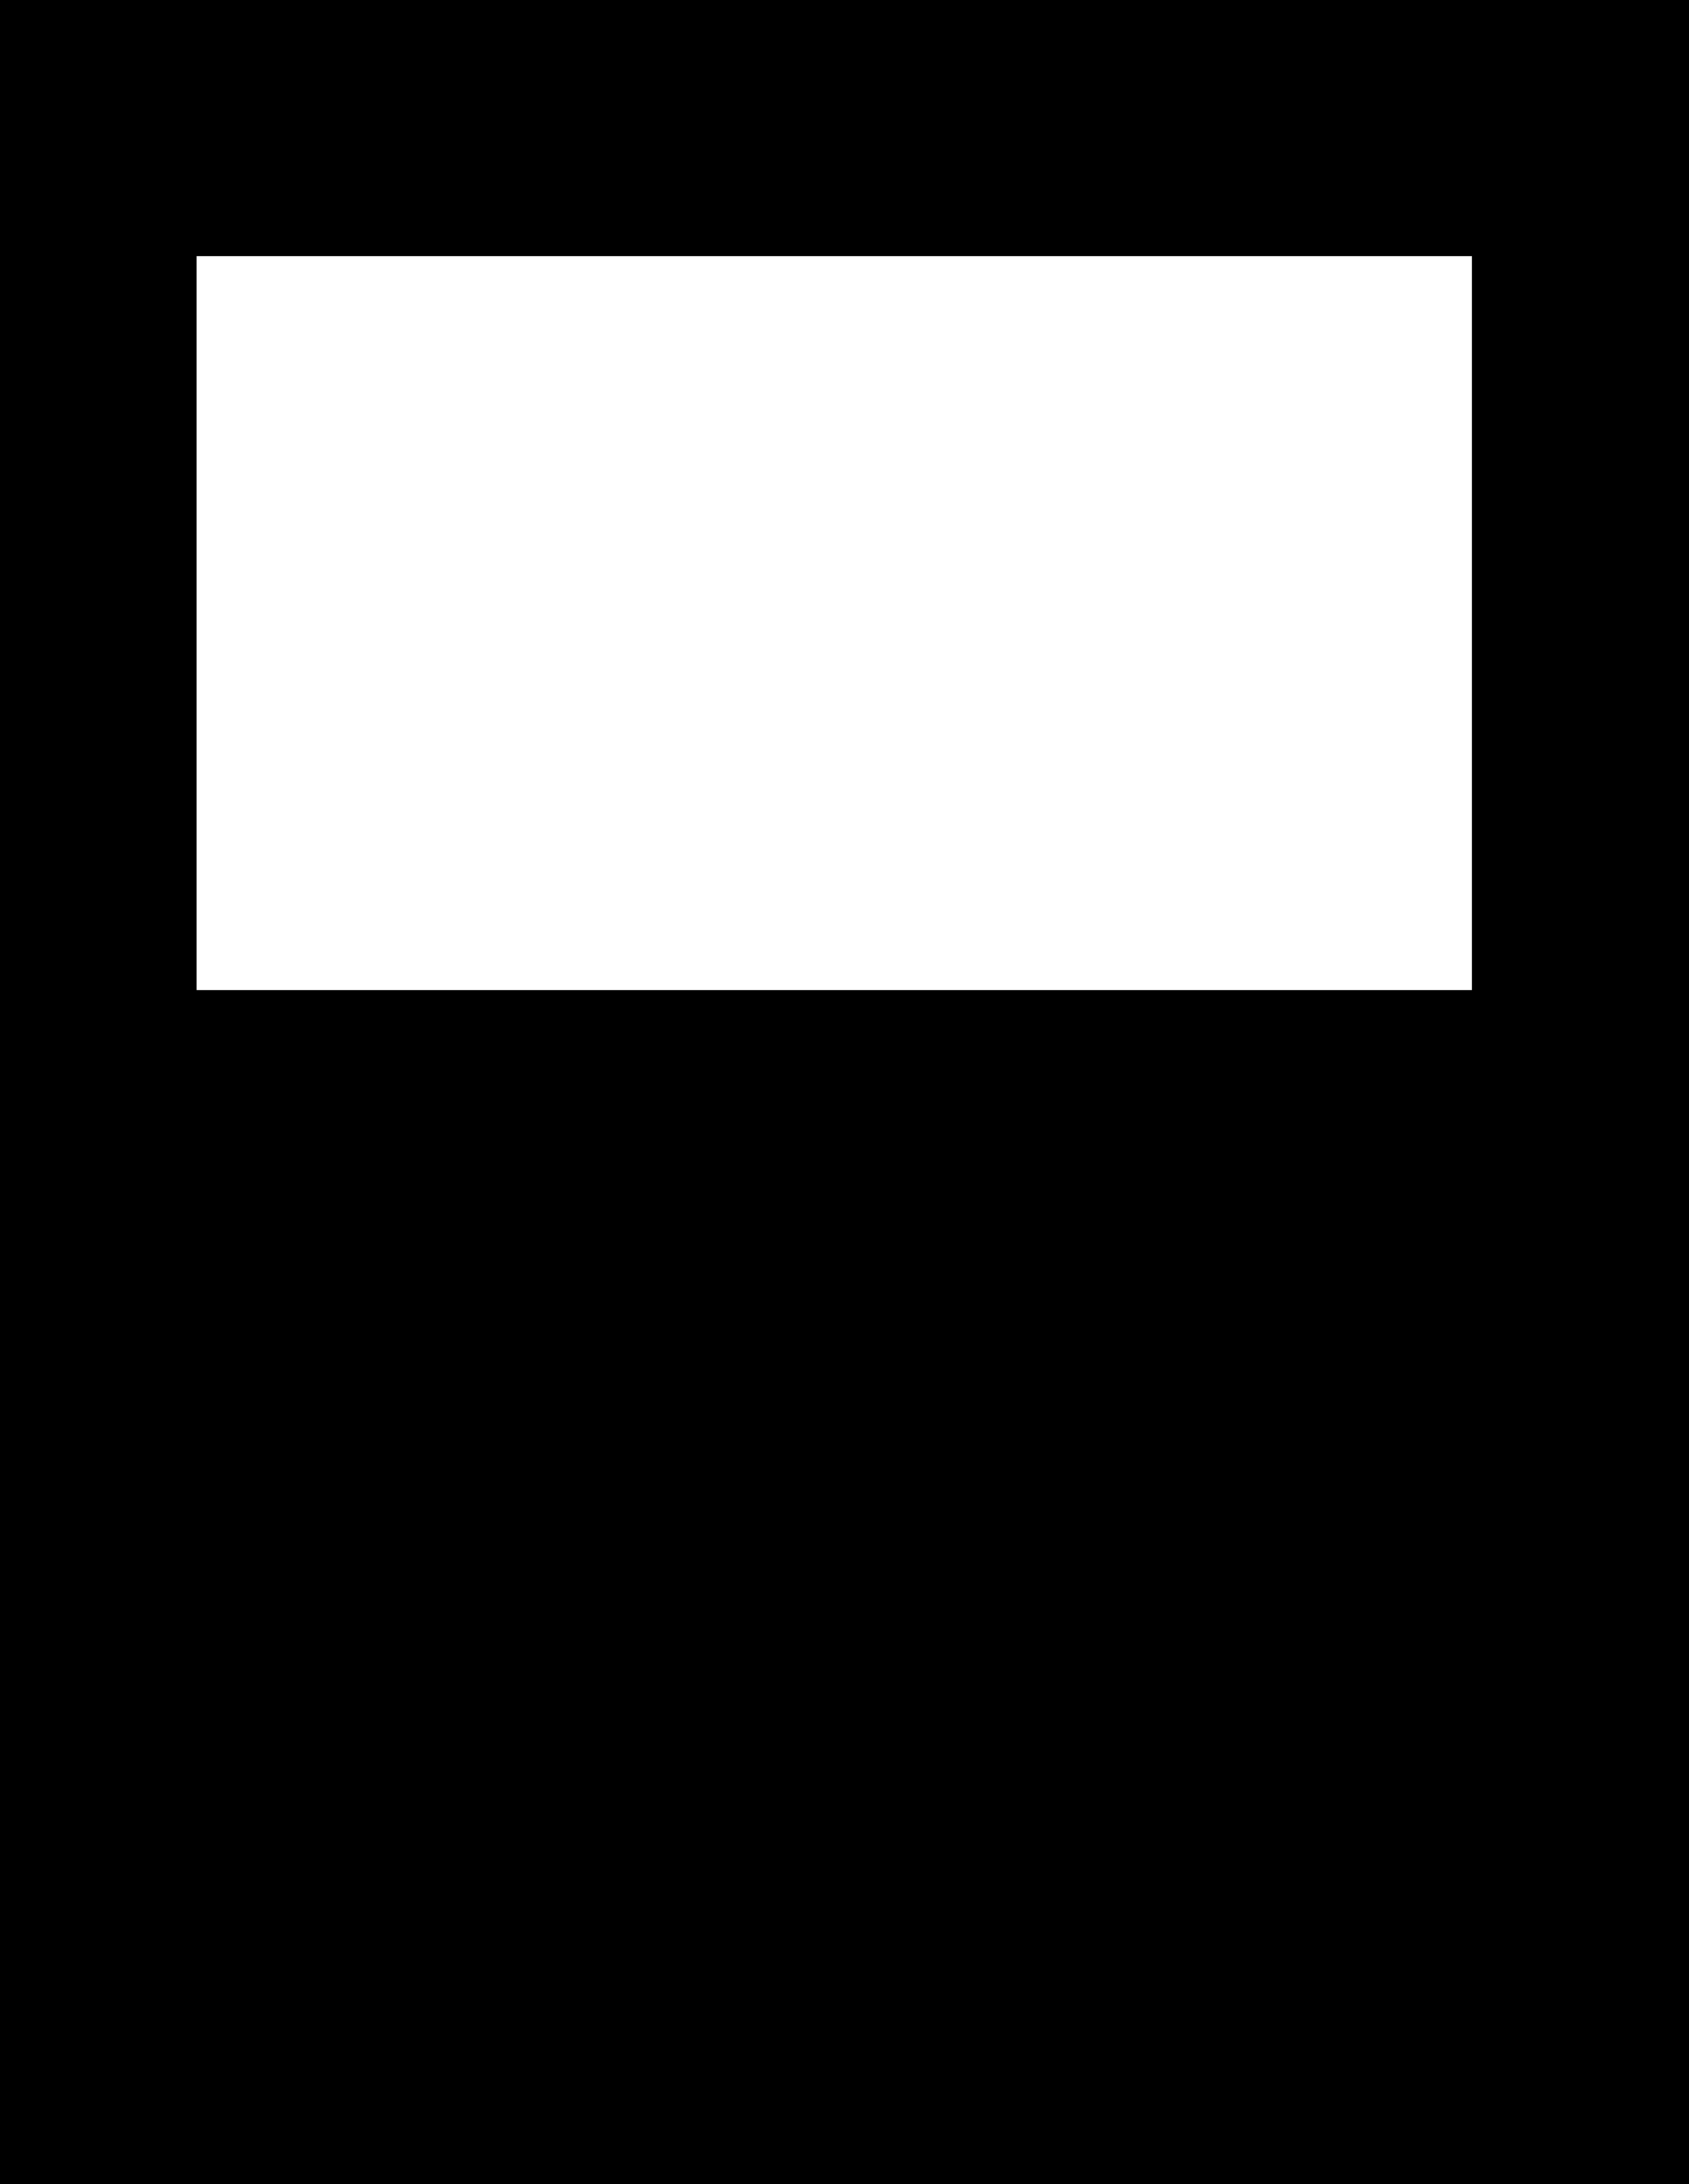table: (197, 255, 1471, 989)
